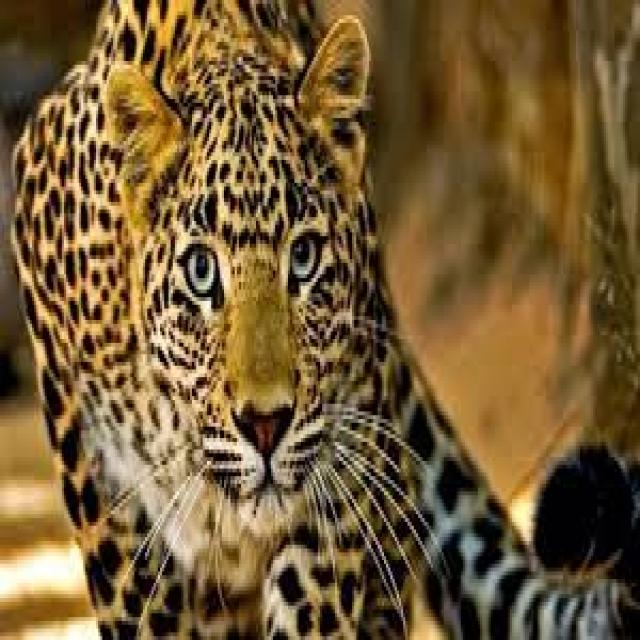Jaguar: (9, 0, 602, 640)
